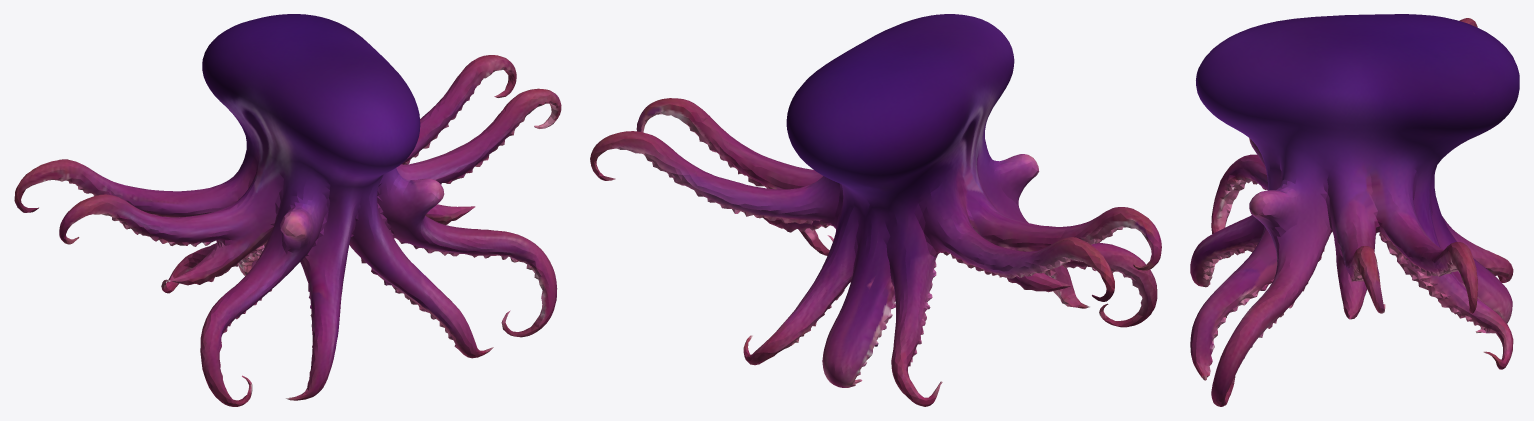
File: kraken_tail.glb
3 renders of one model, left to right at view 1: azimuth 30°, elevation 25°; view 2: azimuth 150°, elevation 25°; view 3: azimuth 270°, elevation 25°, orthographic. The views are drawn at different scales.
Parts seen in each view (by area): view 1: kraken_tail; view 2: kraken_tail; view 3: kraken_tail.
Part boxes in pixels (x1,y1,x2,y2): kraken_tail: (14, 14, 561, 406); kraken_tail: (590, 14, 1161, 406); kraken_tail: (1190, 14, 1519, 406).
Size of the model in its own units: 1.9 by 1 by 1.
1 material, 1 textured.
